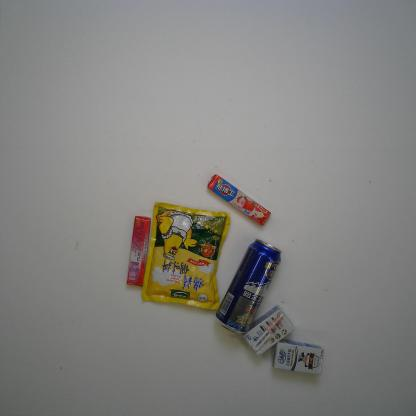Alcohol: (216, 237, 282, 335)
Candy: (206, 174, 272, 226), (126, 216, 151, 286)
Milk: (243, 305, 295, 357), (272, 339, 324, 376)
Seasoner: (141, 202, 231, 310)
